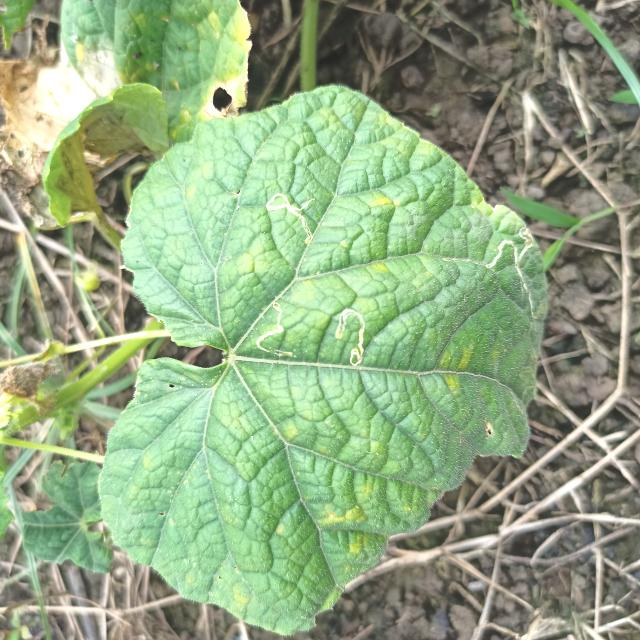disease_cucumber: (318, 504, 369, 554), (438, 345, 470, 395), (363, 191, 397, 214)
